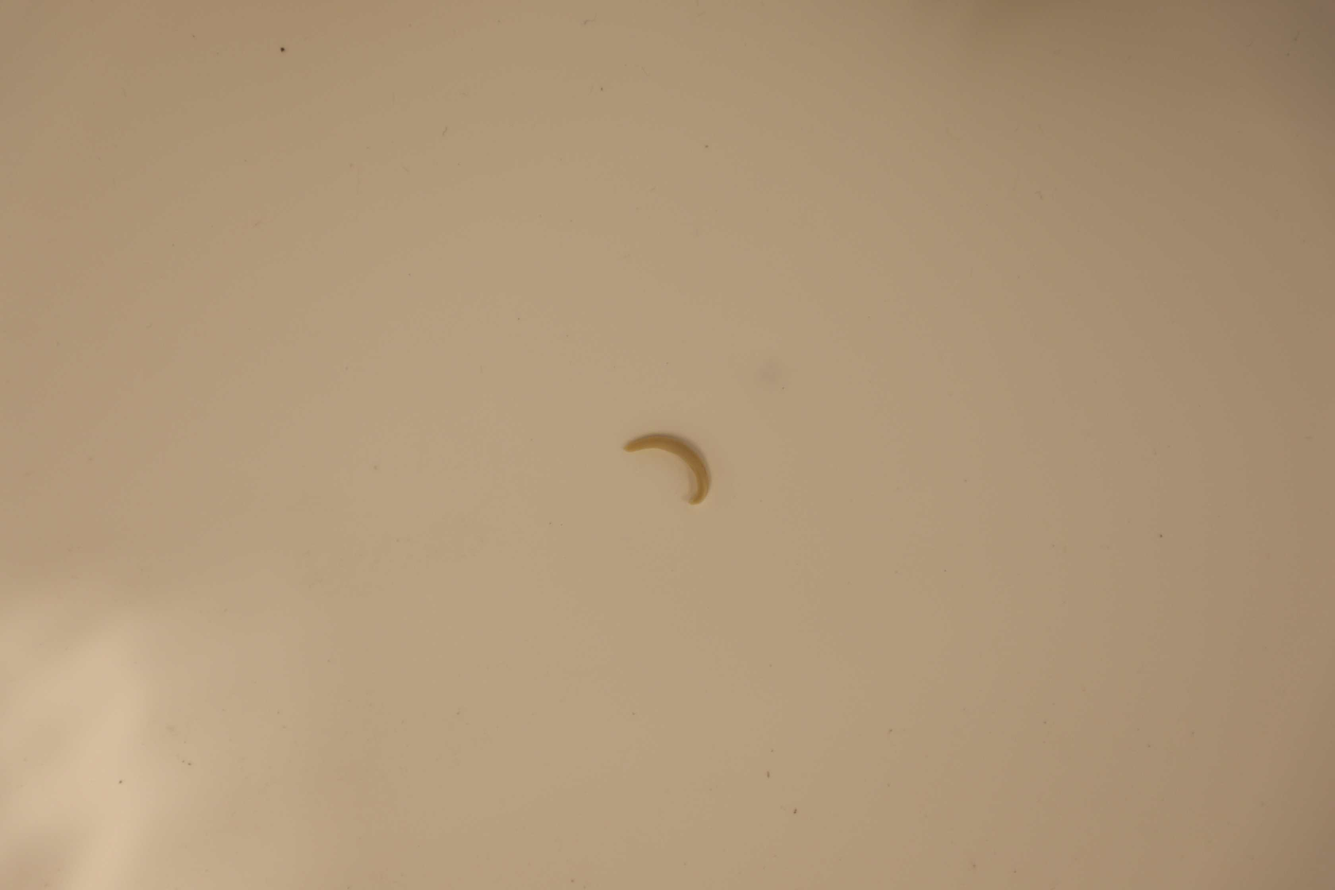Cadisfly: (619, 431, 712, 504)
